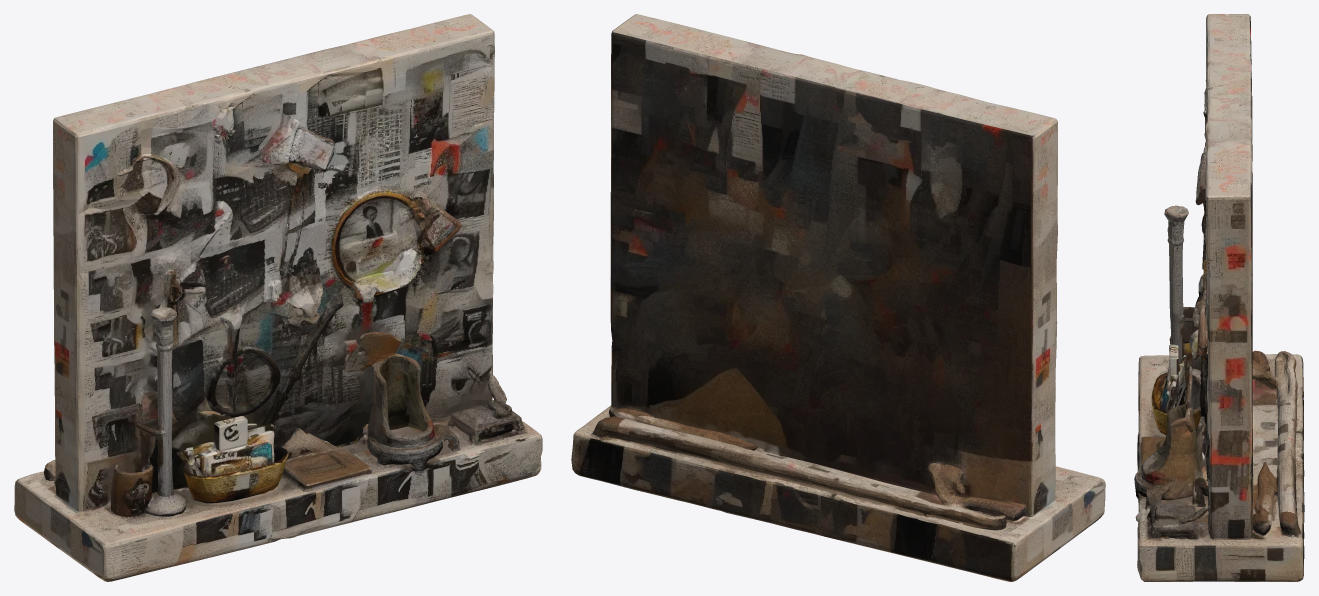
The model's file is tail (191).glb.
3 renders of one model, left to right at view 1: azimuth 30°, elevation 25°; view 2: azimuth 150°, elevation 25°; view 3: azimuth 270°, elevation 25°, orthographic. The views are drawn at different scales.
Visible parts, largest first — view 1: Hy21_Mesh.obj; view 2: Hy21_Mesh.obj; view 3: Hy21_Mesh.obj.
Boxes of the visible parts, x1=… form: Hy21_Mesh.obj: x1=14, y1=14, x2=542, y2=581; Hy21_Mesh.obj: x1=571, y1=14, x2=1105, y2=581; Hy21_Mesh.obj: x1=1134, y1=14, x2=1304, y2=581.
Size of the model in its own units: 1.96 by 1.8 by 0.7226.
1 material, 1 textured.
